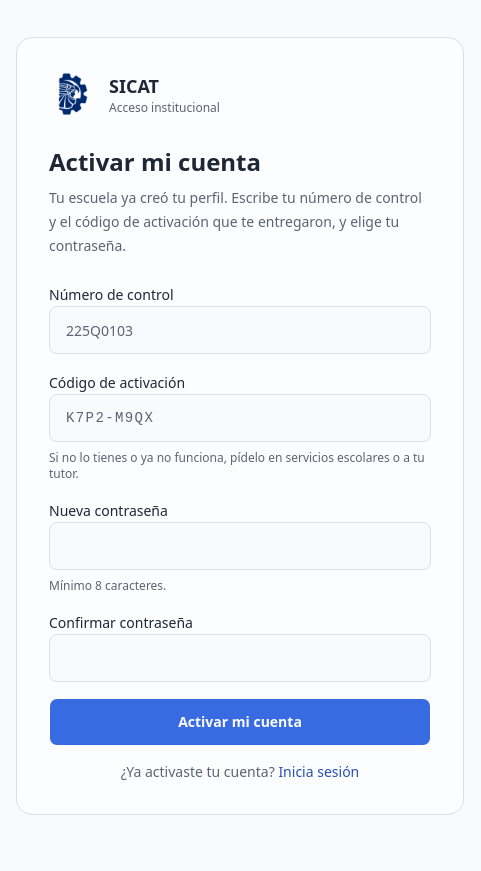
muestra el motivo cuando el código no sirve
The width and height of the screenshot is (481, 871).
Type "225q0103" into the field labelled "Número de control" at (240, 330), box top-left (49, 306), bottom-right (431, 354)
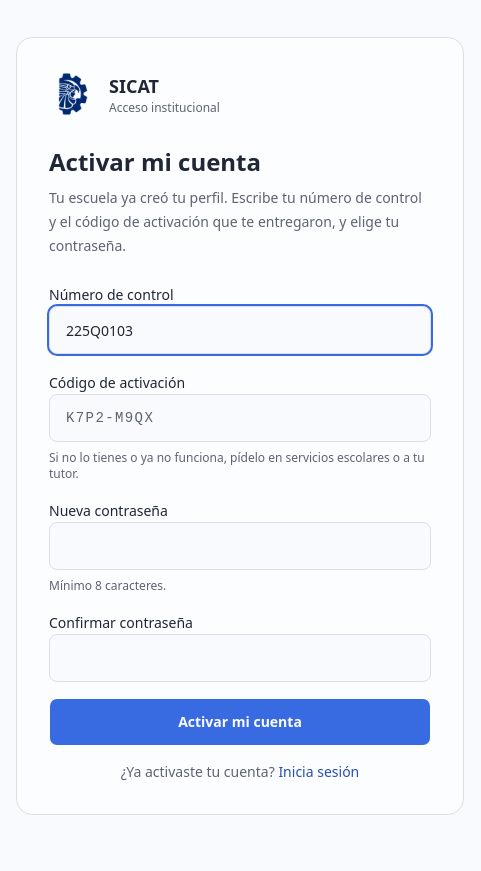
Type "k7p2-m9qx" into the field labelled "Código de activación" at (240, 418), box top-left (49, 394), bottom-right (431, 442)
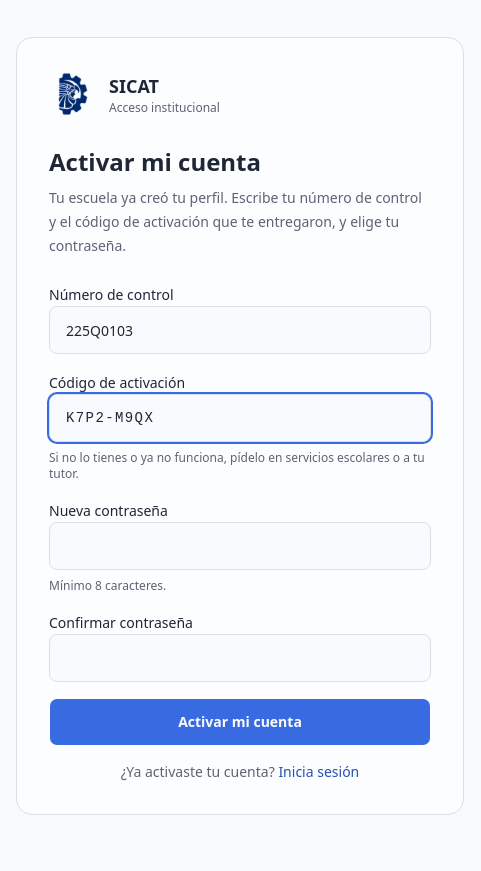
Type "clave-nueva" into the password field labelled "Nueva contraseña" at (240, 546), box top-left (49, 522), bottom-right (431, 570)
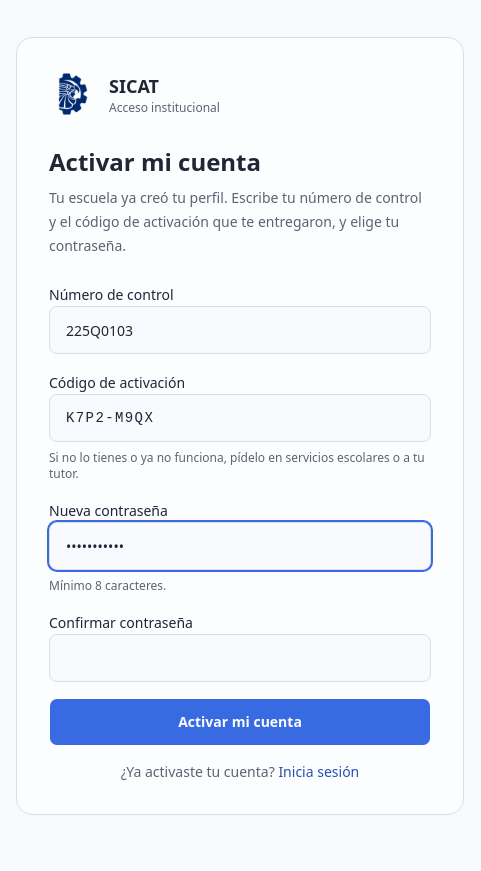
Type "clave-nueva" into the password field labelled "Confirmar contraseña" at (240, 658), box top-left (49, 634), bottom-right (431, 682)
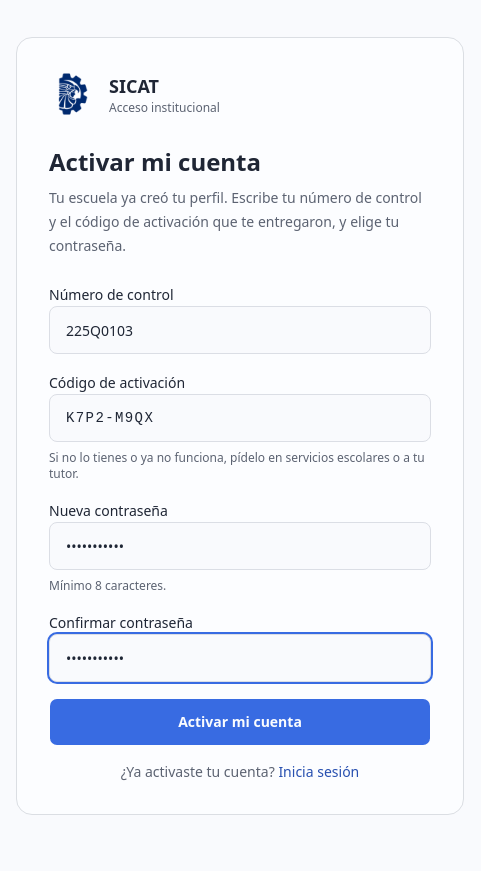
Click the button "Activar mi cuenta" at (240, 722), box top-left (49, 698), bottom-right (431, 746)
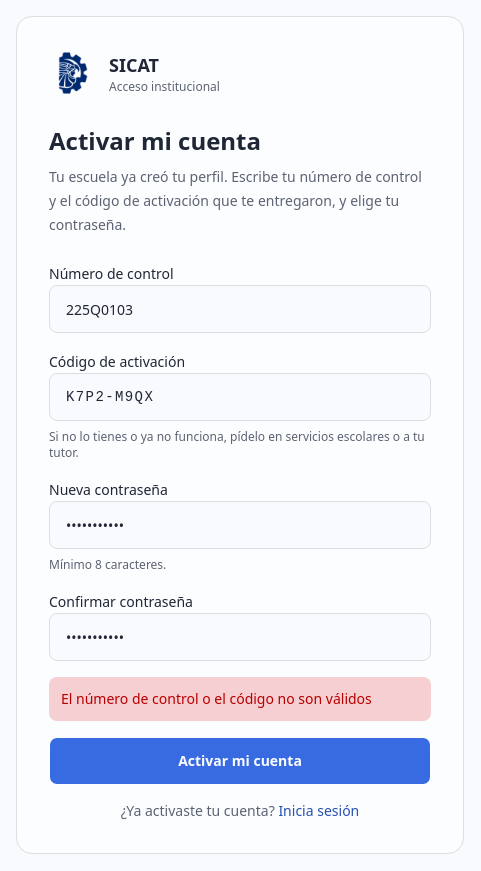
Expected: the message reads "El número de control o el código no son válidos", top-left (61, 689), bottom-right (372, 708)
